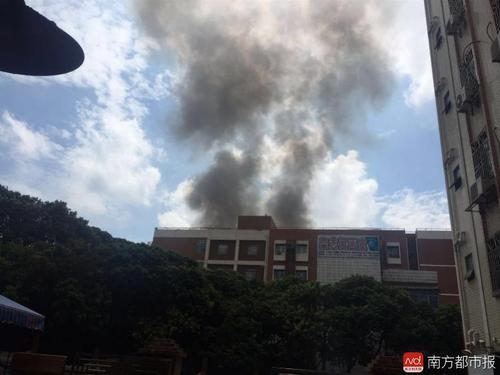smoke: (165, 3, 370, 224)
